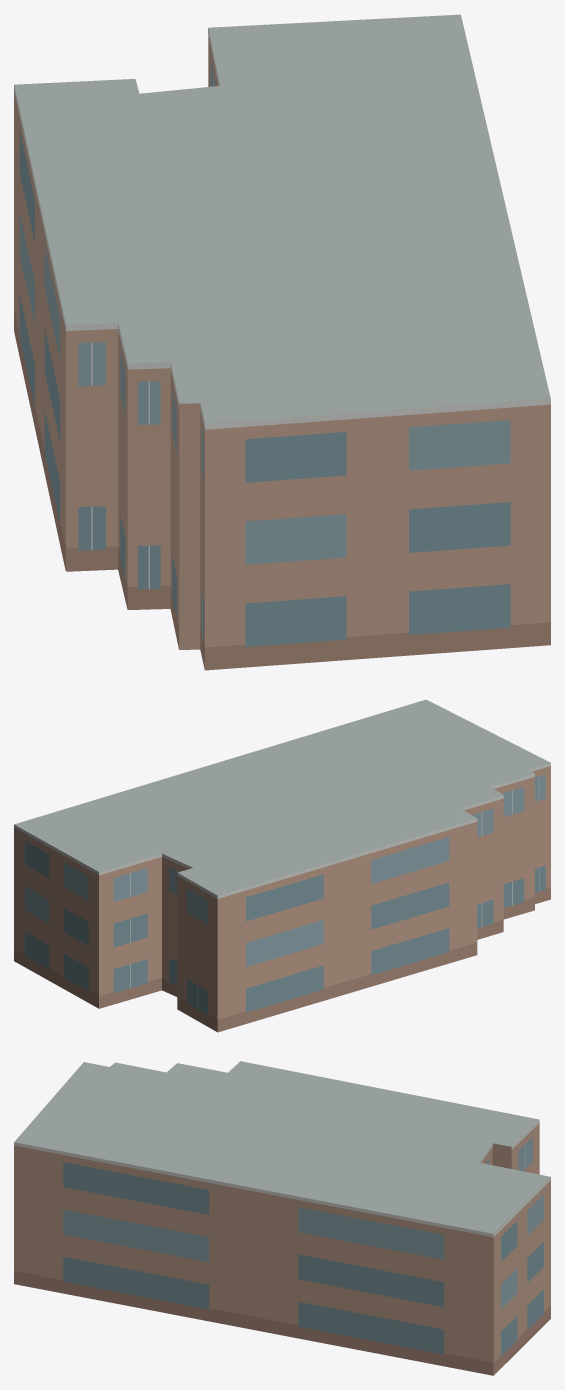
Rendered from survey-upis-32492522.glb.
3 renders of one model, top to bottom at view 1: azimuth 30°, elevation 25°; view 2: azimuth 150°, elevation 25°; view 3: azimuth 270°, elevation 25°, orthographic. The views are drawn at different scales.
Visible parts, largest first — view 1: survey-upis-32492522.tmp; view 2: survey-upis-32492522.tmp; view 3: survey-upis-32492522.tmp.
Boxes of the visible parts, x1,y1,x2,y2 form: survey-upis-32492522.tmp: (14, 14, 550, 670); survey-upis-32492522.tmp: (14, 699, 550, 1032); survey-upis-32492522.tmp: (14, 1061, 550, 1375).
Bounding box in the file's own units: 27.17 × 10.4 × 35.67.
